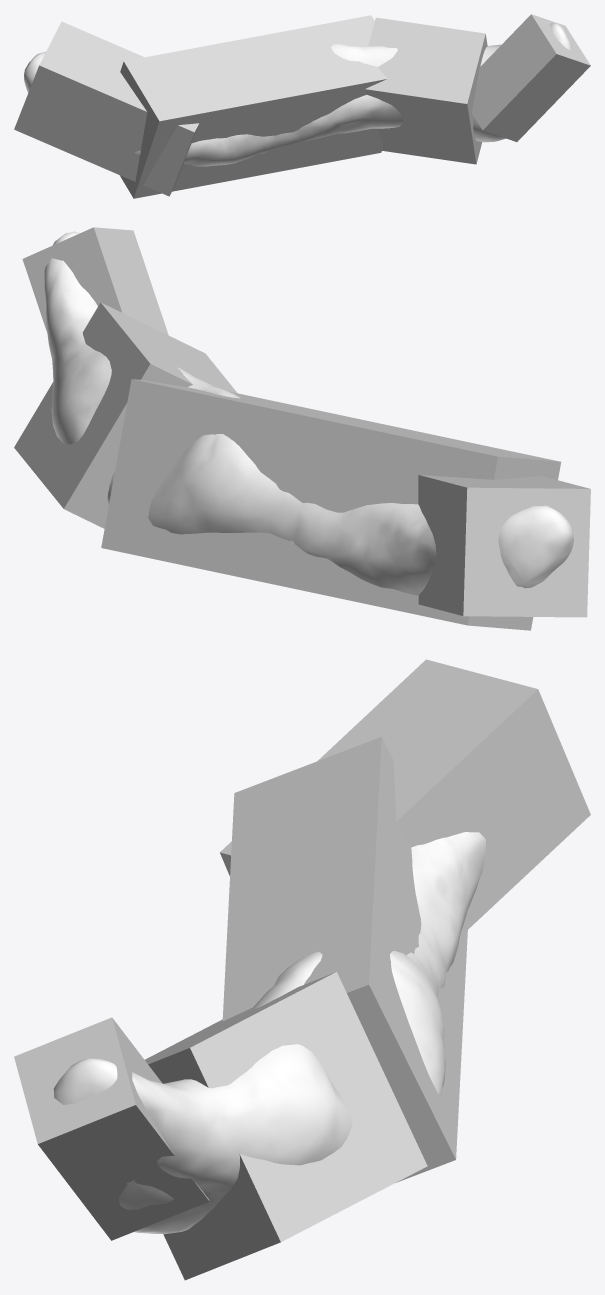
File: Coral_17.glb
The picture shows the model from 3 angles, top to bottom: view 1: azimuth 30°, elevation 25°; view 2: azimuth 150°, elevation 25°; view 3: azimuth 270°, elevation 25°; orthographic projection. The views are drawn at different scales.
Visible parts, largest first — view 1: Cube.044, Cube.043, Cube.045, Cube.046, A03612_Koralle17.001; view 2: Cube.044, A03612_Koralle17.001, Cube.043, Cube.045, Cube.046; view 3: Cube.044, A03612_Koralle17.001, Cube.043, Cube.045, Cube.046.
Boxes of the visible parts, <box> form: Cube.044: <box>120,15,387,198</box>; Cube.043: <box>14,21,198,196</box>; Cube.045: <box>365,17,487,164</box>; Cube.046: <box>472,14,590,141</box>; A03612_Koralle17.001: <box>24,23,571,166</box>; Cube.044: <box>101,379,561,630</box>; A03612_Koralle17.001: <box>44,231,573,595</box>; Cube.043: <box>418,475,590,617</box>; Cube.045: <box>14,302,237,528</box>; Cube.046: <box>22,227,168,335</box>; Cube.044: <box>222,737,467,1182</box>; A03612_Koralle17.001: <box>53,832,485,1234</box>; Cube.043: <box>220,659,590,935</box>; Cube.045: <box>145,972,427,1280</box>; Cube.046: <box>14,1017,209,1240</box>.
Size of the model in its own units: 0.3773 by 0.1217 by 0.2147.
Materials: 1 (1 with a texture image).
